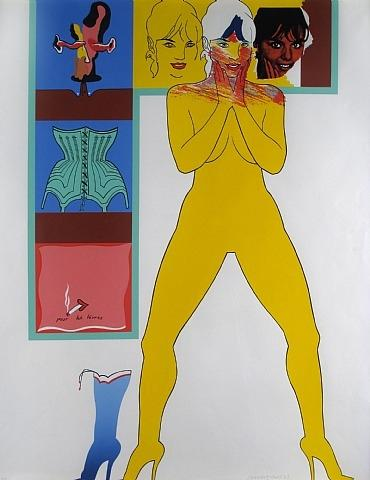person: (121, 2, 357, 477), (251, 9, 313, 77), (142, 7, 205, 70)
